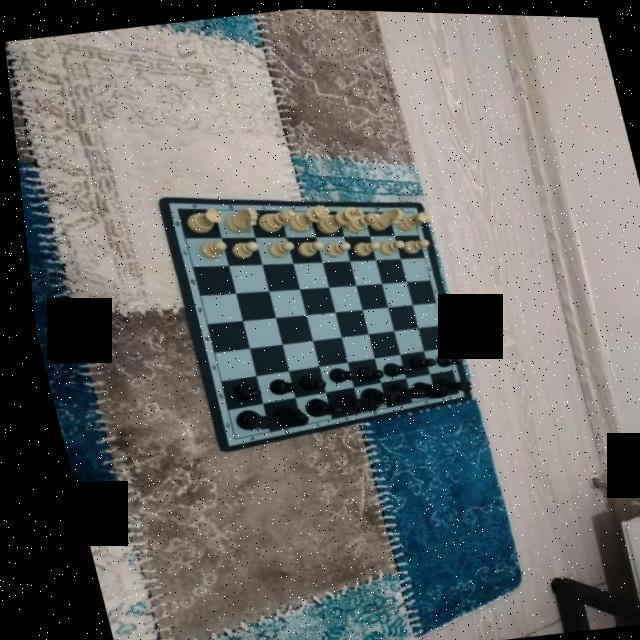chess-table-corners: (165, 202, 178, 212), (401, 206, 414, 216), (444, 386, 456, 395), (218, 434, 230, 443)
